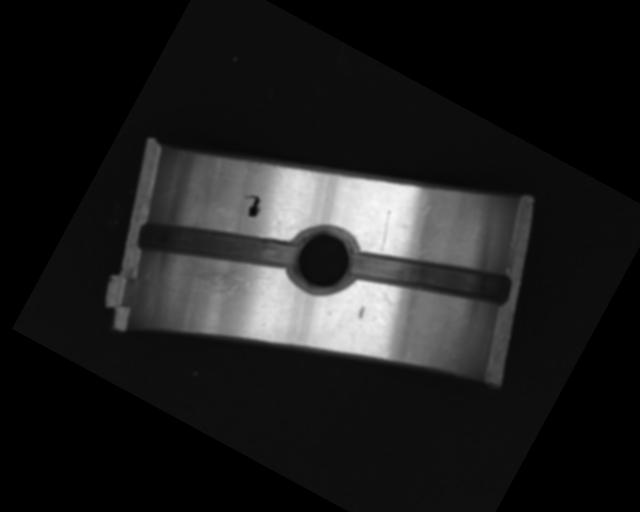blot: (236, 189, 266, 221)
bruise: (354, 303, 368, 320)
gap: (133, 177, 300, 314), (346, 209, 514, 345)
hole: (278, 213, 370, 304)
nick: (369, 209, 402, 252)
scratch: (170, 230, 272, 313)
